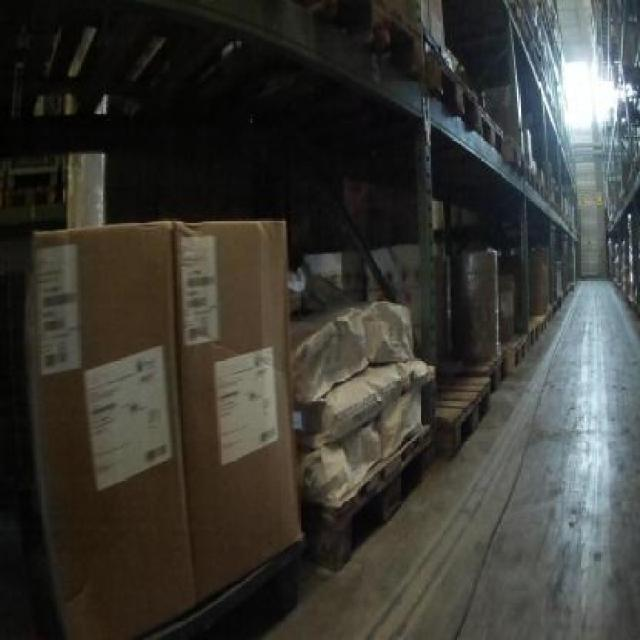pallets: (29, 218, 298, 637), (292, 300, 432, 566)
